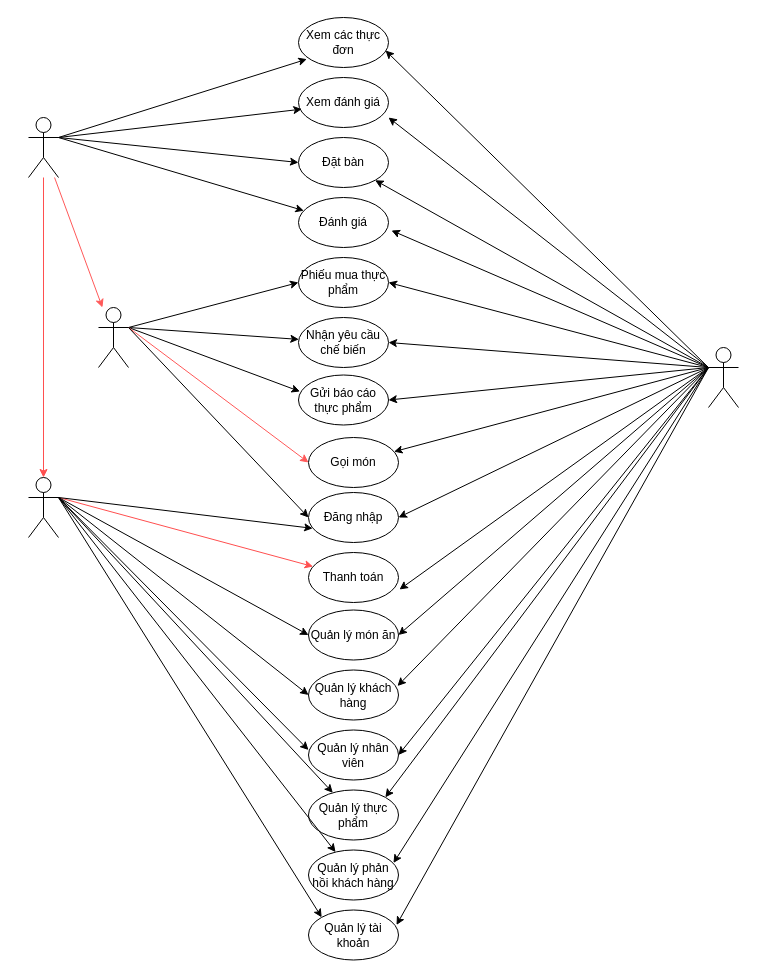
This 766x978 diagram has some shape labels left out. Each missing label, with the box of its shape:
Admin: (28, 476, 58, 538)
Customer: (28, 116, 58, 178)
Database: (708, 346, 738, 408)
Staff: (98, 306, 128, 368)
